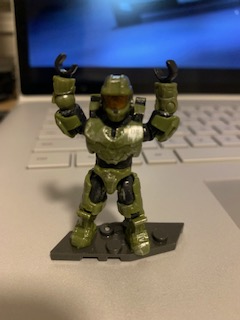chief: (48, 52, 181, 256)
spartan: (46, 50, 179, 254)
up: (44, 48, 181, 165)
